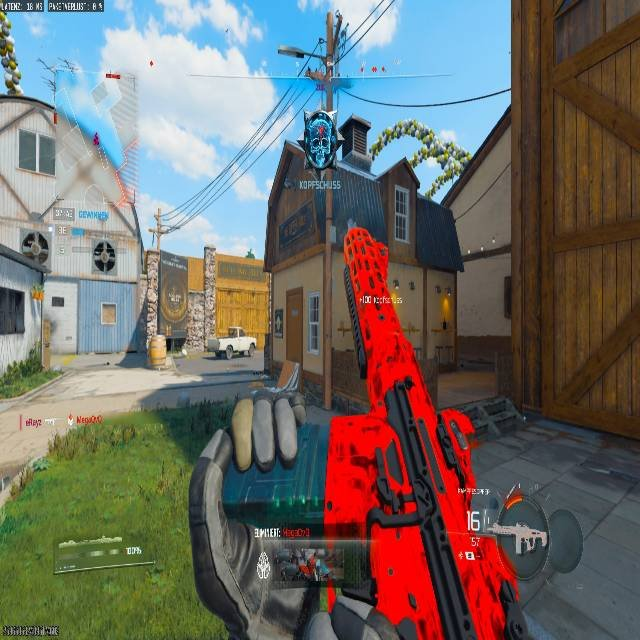player: (135, 299, 156, 350), (306, 551, 317, 576), (248, 341, 256, 354)
